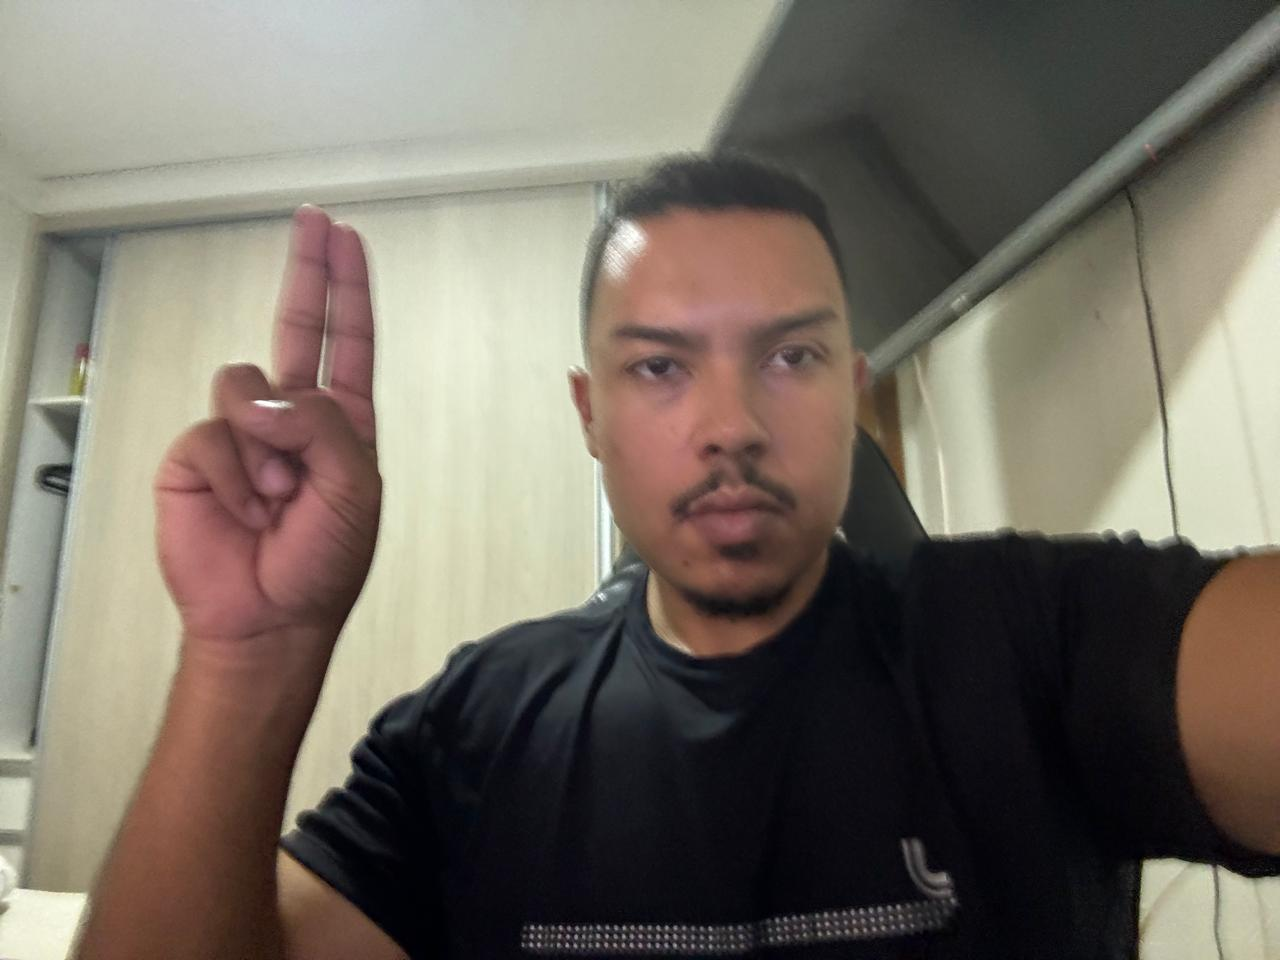u: (132, 186, 392, 649)
